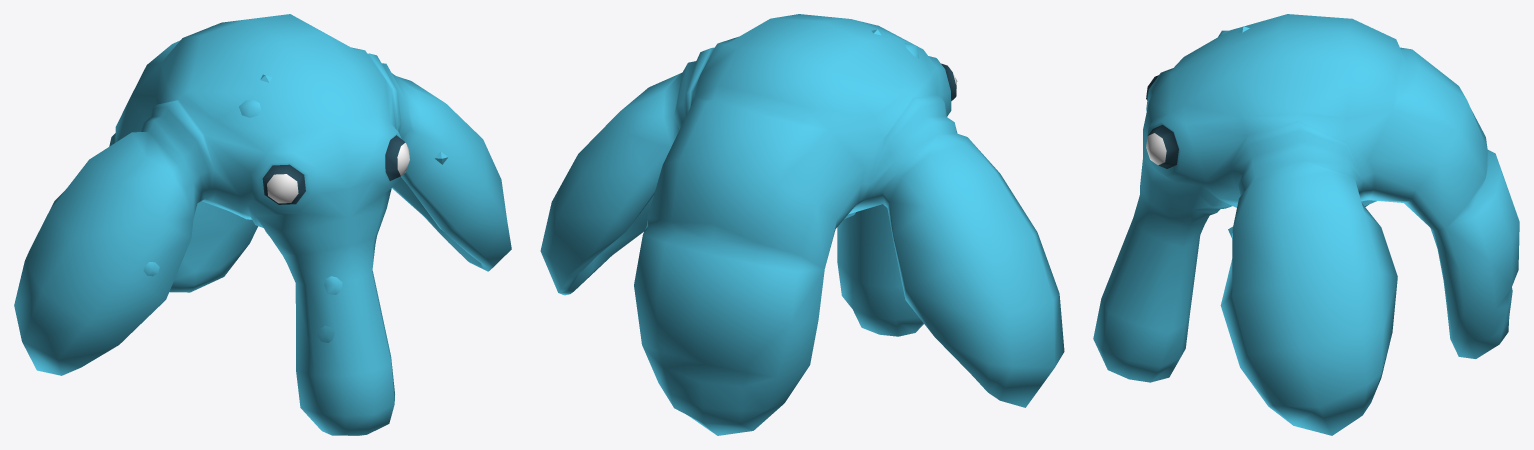
The model's file is Max Rebo.gltf.
3 renders of one model, left to right at view 1: azimuth 30°, elevation 25°; view 2: azimuth 150°, elevation 25°; view 3: azimuth 270°, elevation 25°, orthographic. The views are drawn at different scales.
Visible parts, largest first — view 1: Object; view 2: Object; view 3: Object.
Boxes of the visible parts, box(x1,y1,x2,y2) form: Object: box(14, 14, 511, 435); Object: box(540, 14, 1064, 435); Object: box(1093, 14, 1519, 435).
Bounding box in the file's own units: 1.58 × 1.07 × 1.2.
